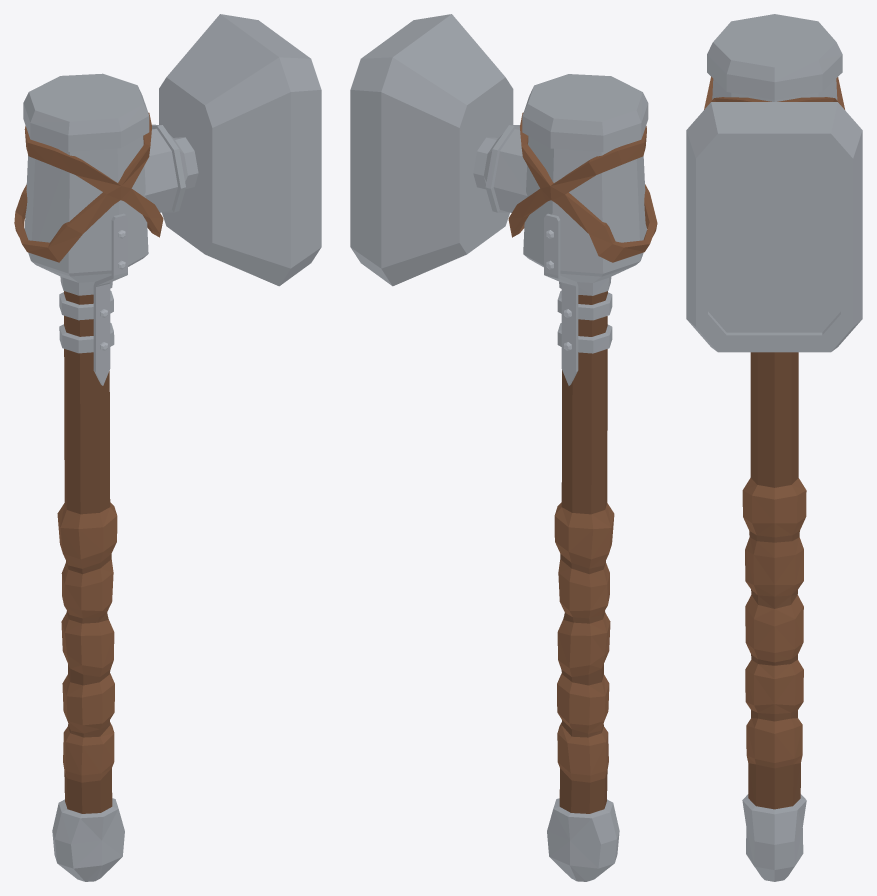
File: Hammer_Small.glb
The picture shows the model from 3 angles, left to right: view 1: azimuth 30°, elevation 25°; view 2: azimuth 150°, elevation 25°; view 3: azimuth 270°, elevation 25°; orthographic projection. The views are drawn at different scales.
Visible parts, largest first — view 1: Hammer_small; view 2: Hammer_small; view 3: Hammer_small.
Boxes of the visible parts, box(x1,y1,x2,y2) form: Hammer_small: box(14, 14, 321, 881); Hammer_small: box(350, 14, 657, 881); Hammer_small: box(686, 14, 862, 881).
Bounding box in the file's own units: 1.49 × 4.33 × 0.8055.
